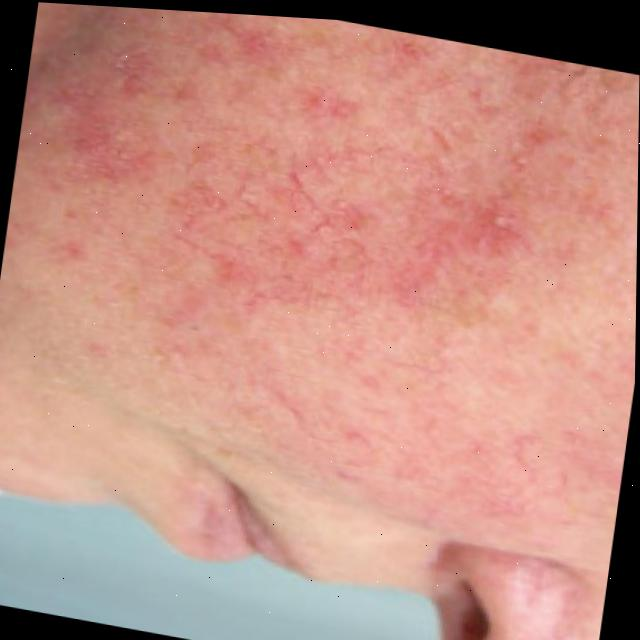Rosacea: (95, 6, 639, 448)
